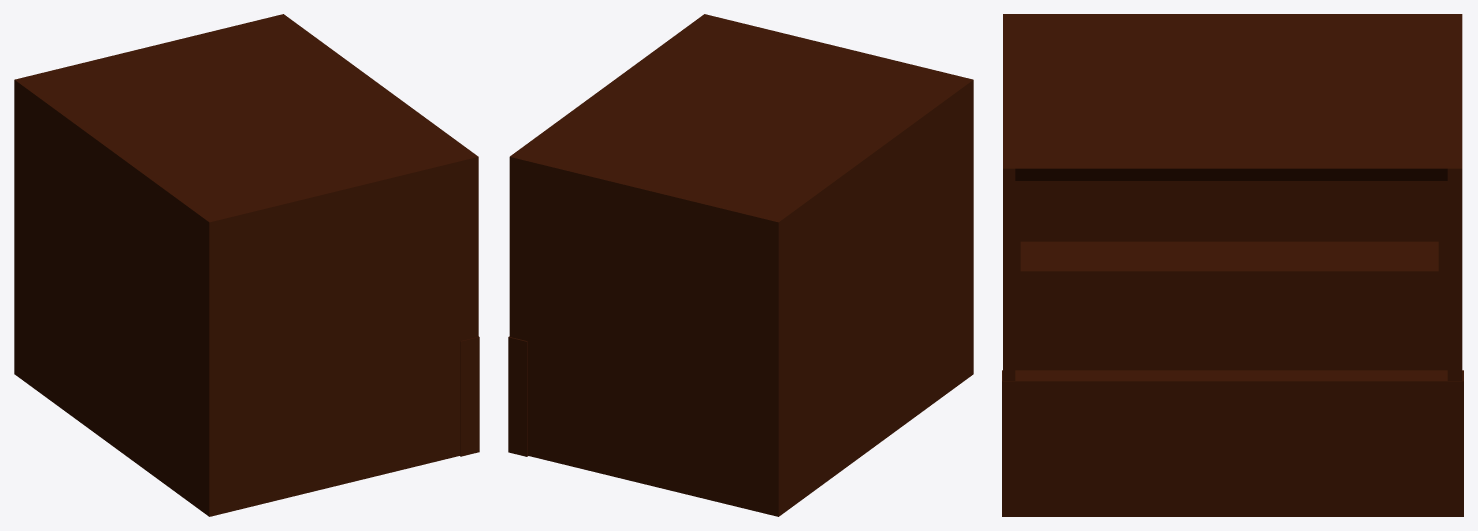
The model's file is shop.glb.
The picture shows the model from 3 angles, left to right: view 1: azimuth 30°, elevation 25°; view 2: azimuth 150°, elevation 25°; view 3: azimuth 270°, elevation 25°; orthographic projection. The views are drawn at different scales.
Visible parts, largest first — view 1: Cube, Cube.001; view 2: Cube, Cube.001; view 3: Cube, Cube.001.
Part boxes in pixels (x1=…): Cube: x1=14, y1=14, x2=478, y2=516; Cube.001: x1=460, y1=336, x2=479, y2=456; Cube: x1=509, y1=14, x2=973, y2=516; Cube.001: x1=508, y1=336, x2=527, y2=456; Cube: x1=1003, y1=14, x2=1462, y2=380; Cube.001: x1=1002, y1=370, x2=1463, y2=516.
Size of the model in its own units: 1.53 by 1.6 by 1.93.
